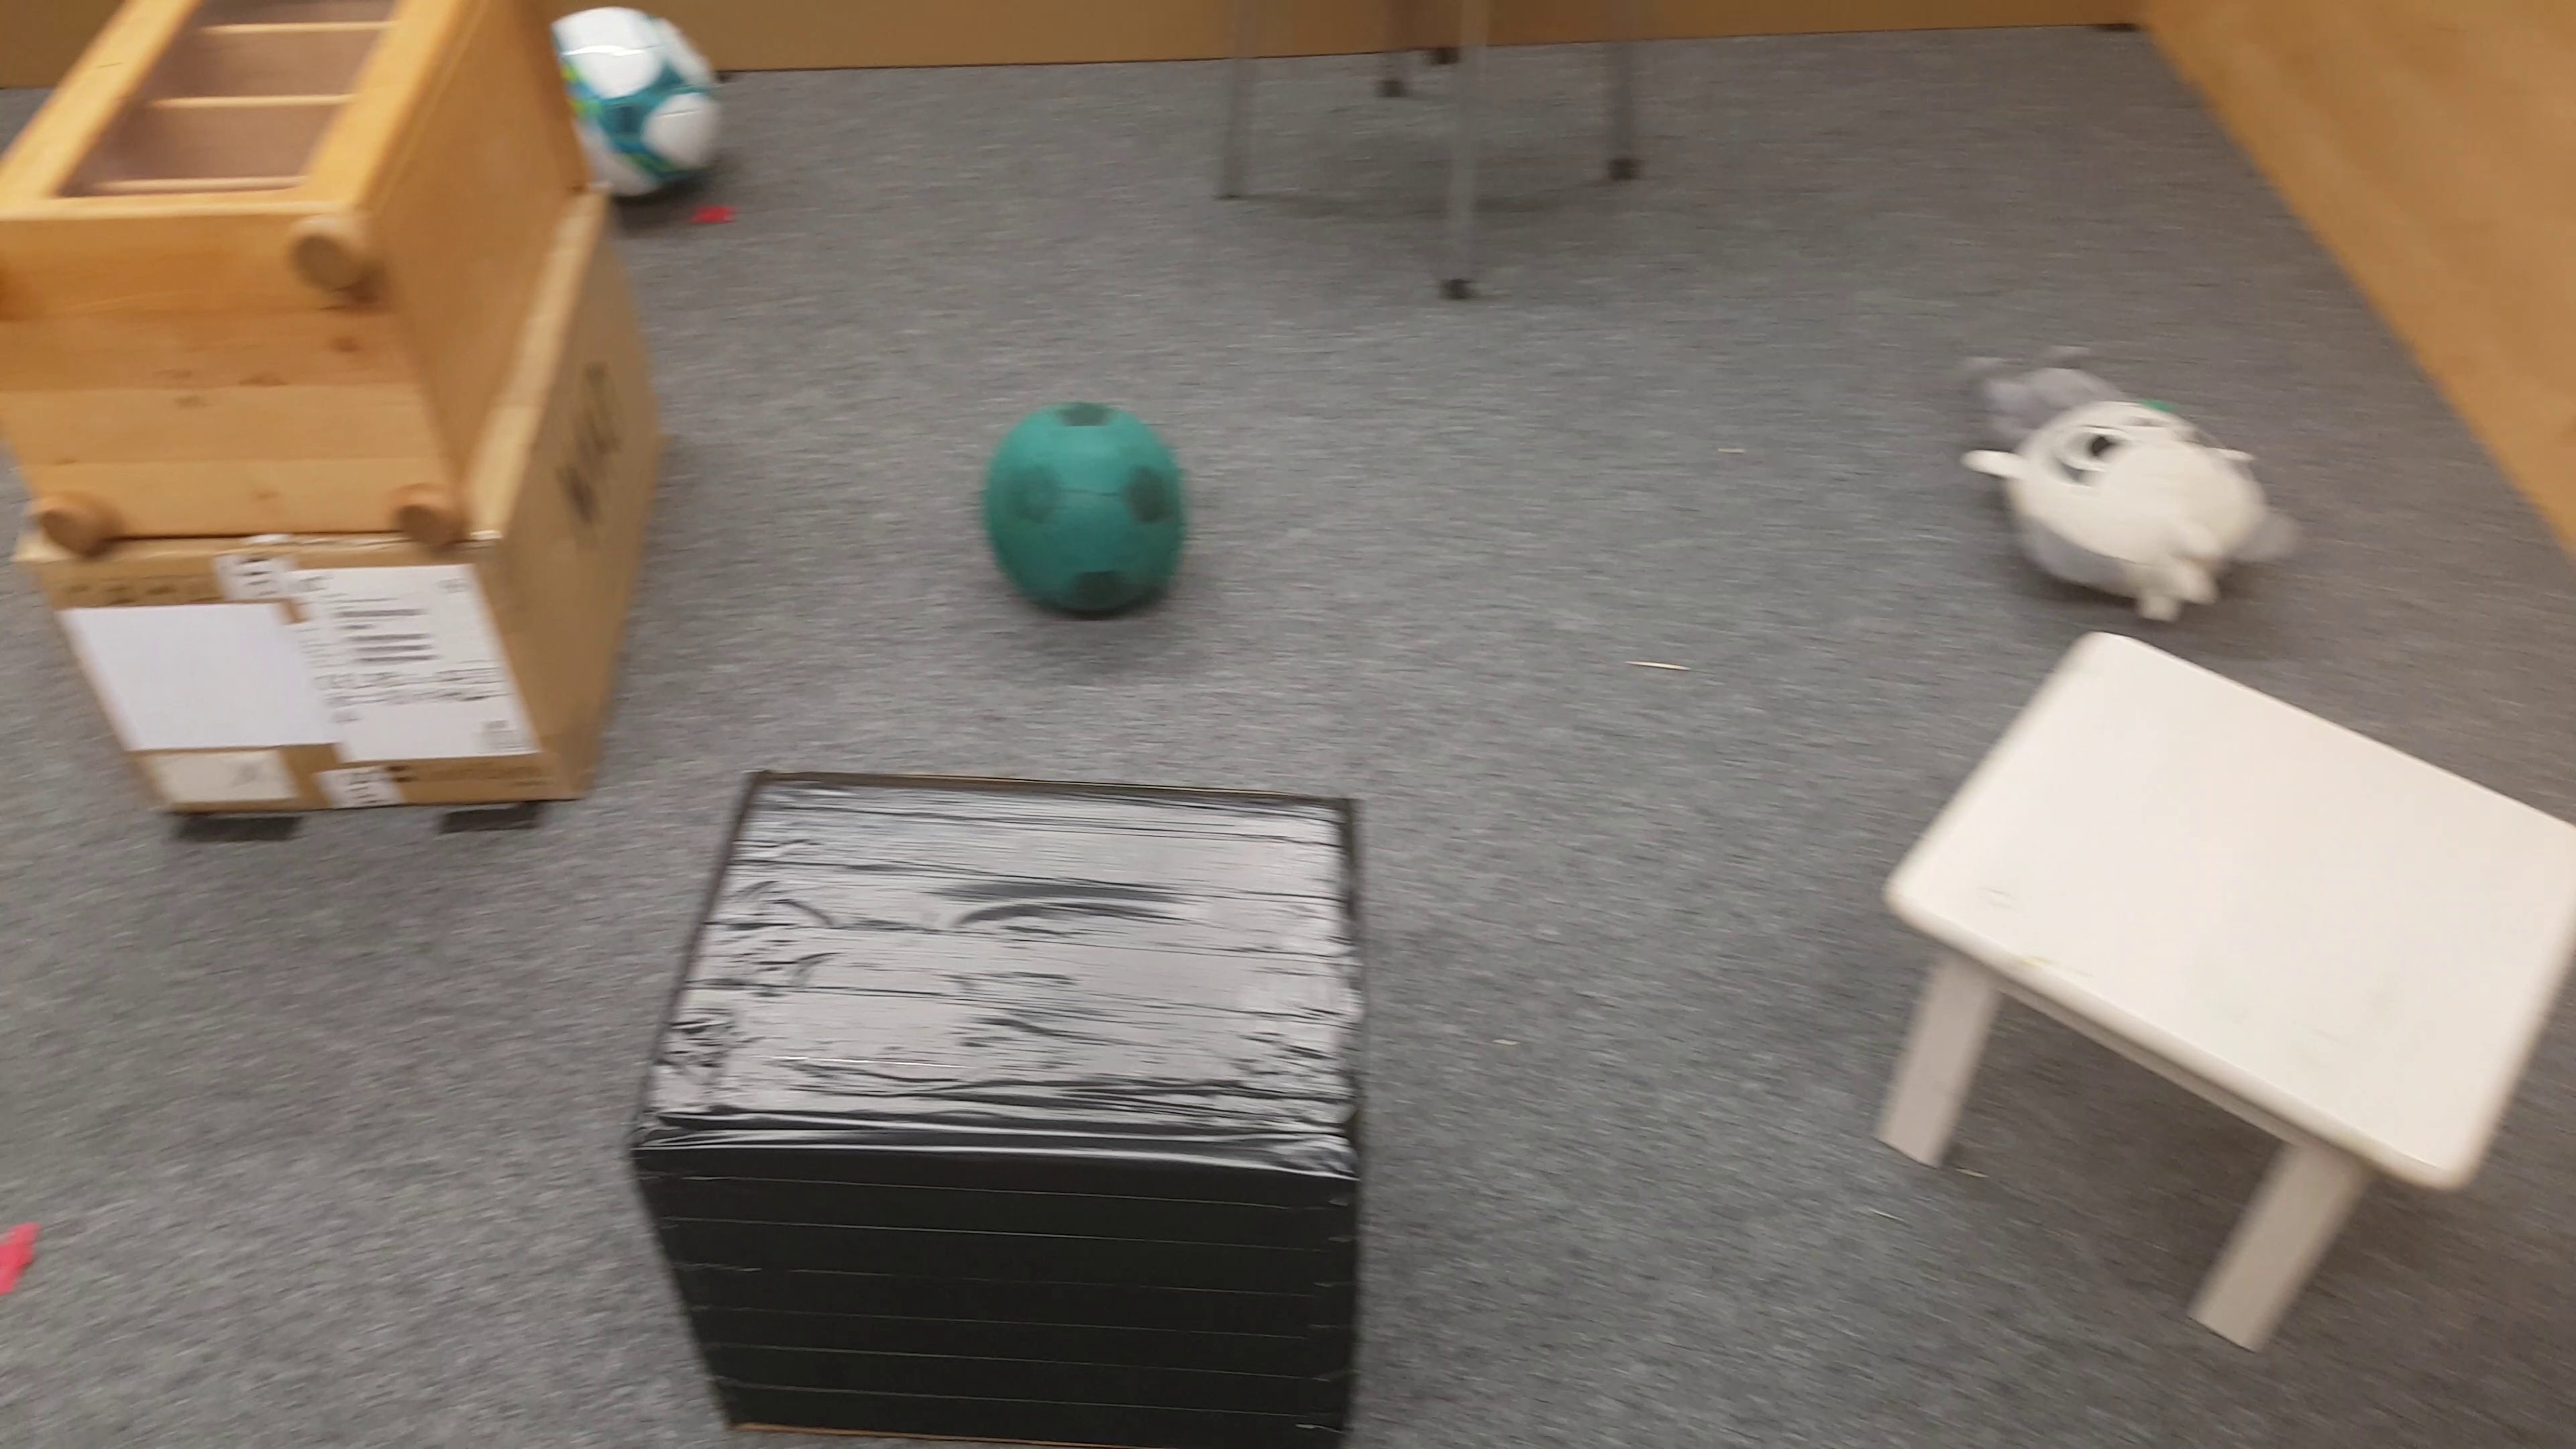grasp: (1957, 338, 2300, 633), (600, 5, 738, 203)
kick: (977, 405, 1189, 617)
push: (630, 754, 1369, 1449)
